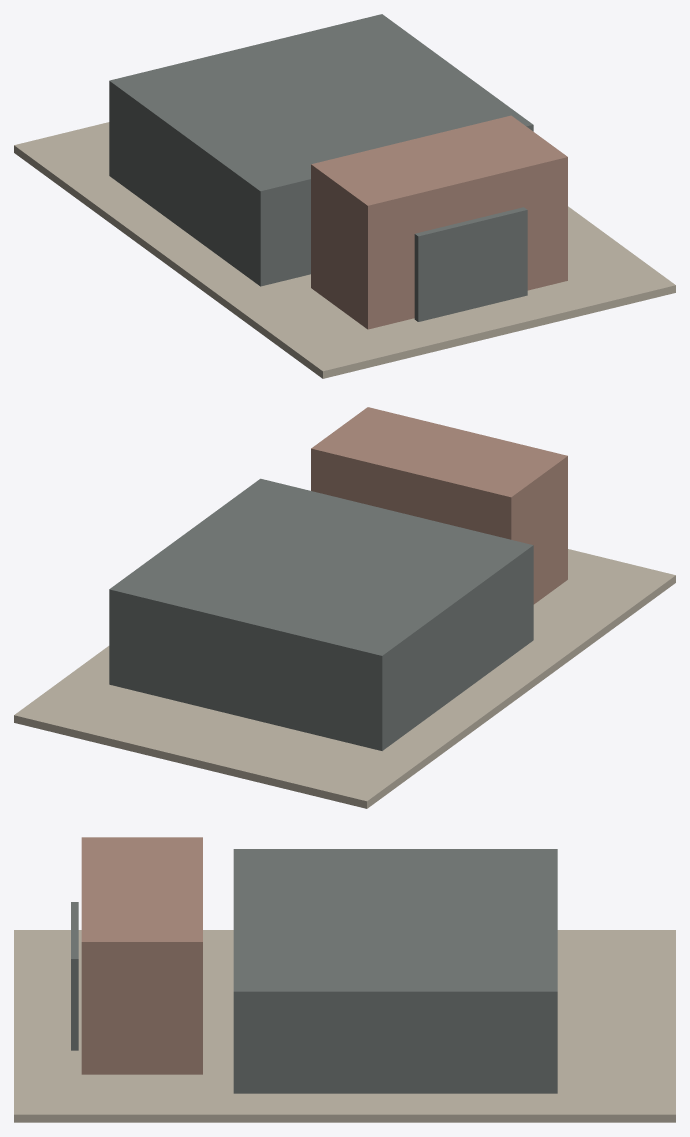
File: mine_2x3.glb
3 renders of one model, top to bottom at view 1: azimuth 30°, elevation 25°; view 2: azimuth 150°, elevation 25°; view 3: azimuth 270°, elevation 25°, orthographic. The views are drawn at different scales.
Parts seen in each view (by area): view 1: mine_2x3; view 2: mine_2x3; view 3: mine_2x3.
Boxes of the visible parts, x1,y1,x2,y2 form: mine_2x3: (14,14,675,378); mine_2x3: (14,407,675,808); mine_2x3: (14,837,675,1122).
Size of the model in its own units: 3.88 by 1.38 by 5.88.
